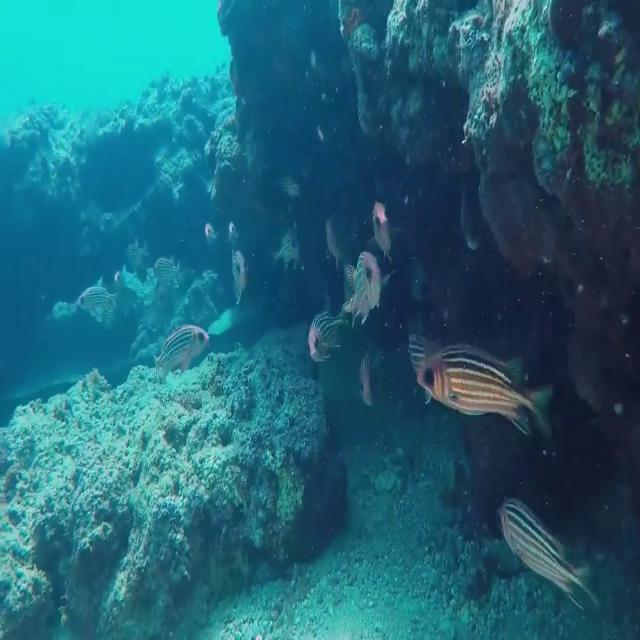Asker Baligi: (407, 330, 548, 438), (495, 494, 599, 612), (334, 246, 396, 322), (154, 322, 210, 383)
